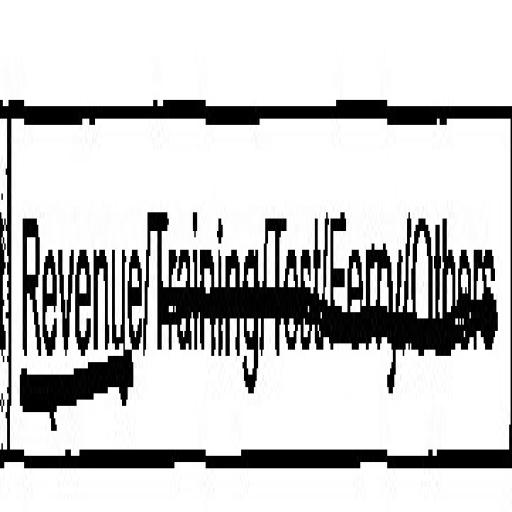check: (10, 24, 144, 512)
